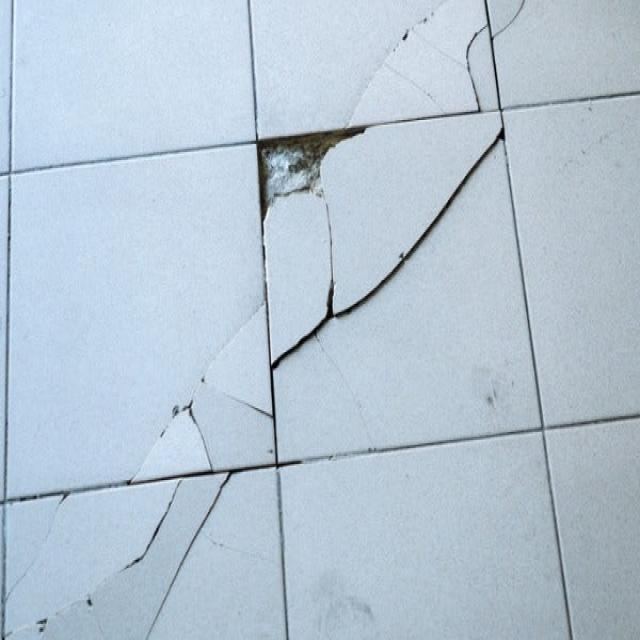Crack: (271, 132, 504, 373), (5, 480, 184, 640), (346, 0, 466, 127), (148, 473, 232, 640), (134, 378, 203, 478), (5, 496, 68, 603), (204, 304, 266, 382), (204, 386, 274, 420), (467, 26, 488, 112), (190, 407, 214, 472), (491, 0, 526, 41), (326, 200, 336, 316)
tile: (260, 128, 362, 222)
